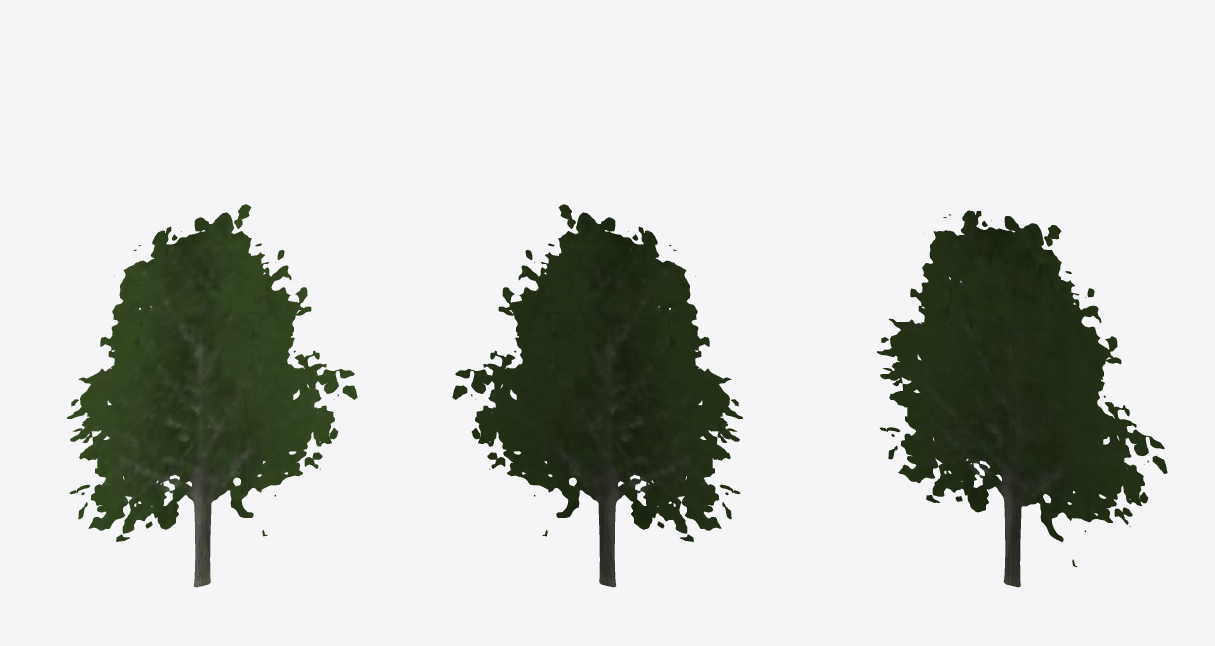
Rendered from buna.lite.glb.
3 renders of one model, left to right at view 1: azimuth 30°, elevation 25°; view 2: azimuth 150°, elevation 25°; view 3: azimuth 330°, elevation 25°, orthographic.
Visible parts, largest first — view 1: v0_imp, v2_imp, v1_imp; view 2: v0_imp, v2_imp, v1_imp; view 3: v2_imp, v0_imp, v1_imp.
Part boxes in pixels (<box>): v0_imp: <box>73,204,357,587</box>; v2_imp: <box>70,250,354,586</box>; v1_imp: <box>67,219,311,572</box>; v0_imp: <box>452,204,736,587</box>; v2_imp: <box>455,250,739,586</box>; v1_imp: <box>498,219,742,572</box>; v2_imp: <box>880,248,1164,586</box>; v0_imp: <box>883,211,1167,587</box>; v1_imp: <box>877,210,1121,569</box>.
Size of what is drawn, in the model's own units: 19.33 by 25.77 by 0.
1 material, 1 textured.
